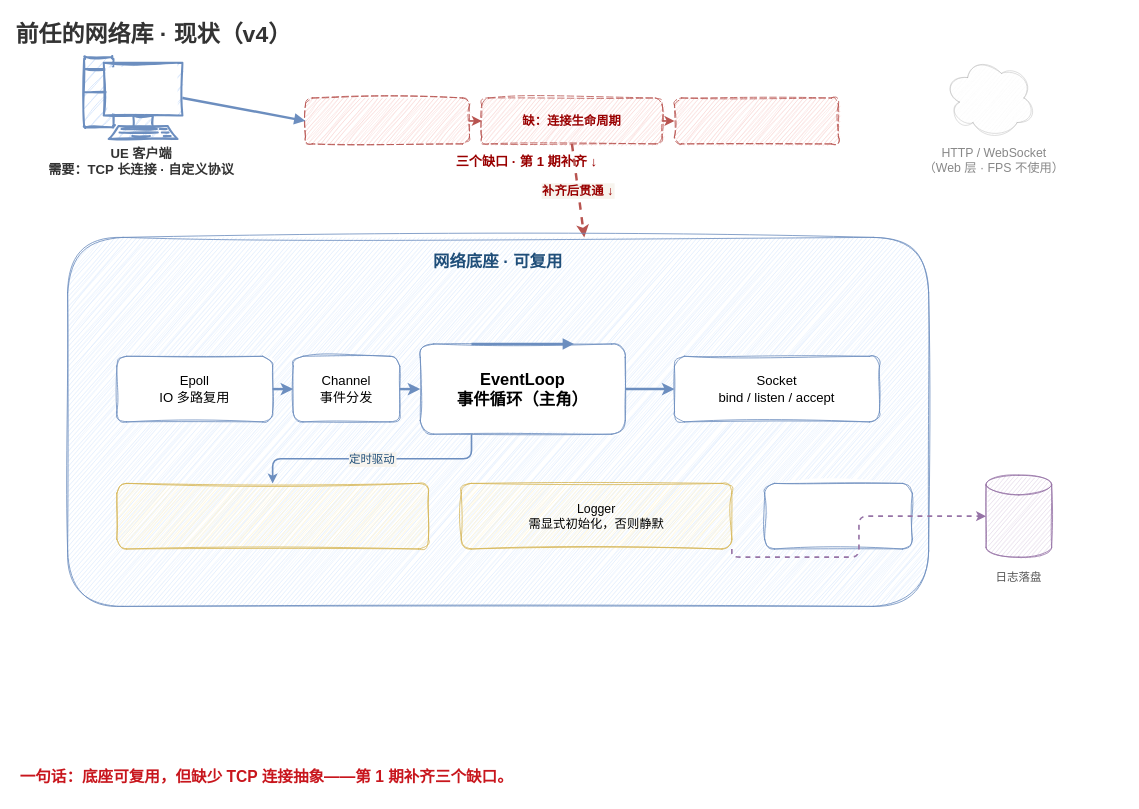
This 1139x809 diagram has some shape labels left out. The centre of each missing label's shape, as x and y in pixels:
"HierarchicalTimingWheel 定时器 · 已知设计缺陷（演进项）" goes at [272,516].
"InetAddress" goes at [838,516].
"缺：收发缓冲" goes at [756,120].
"缺：连接接受" goes at [387,120].
